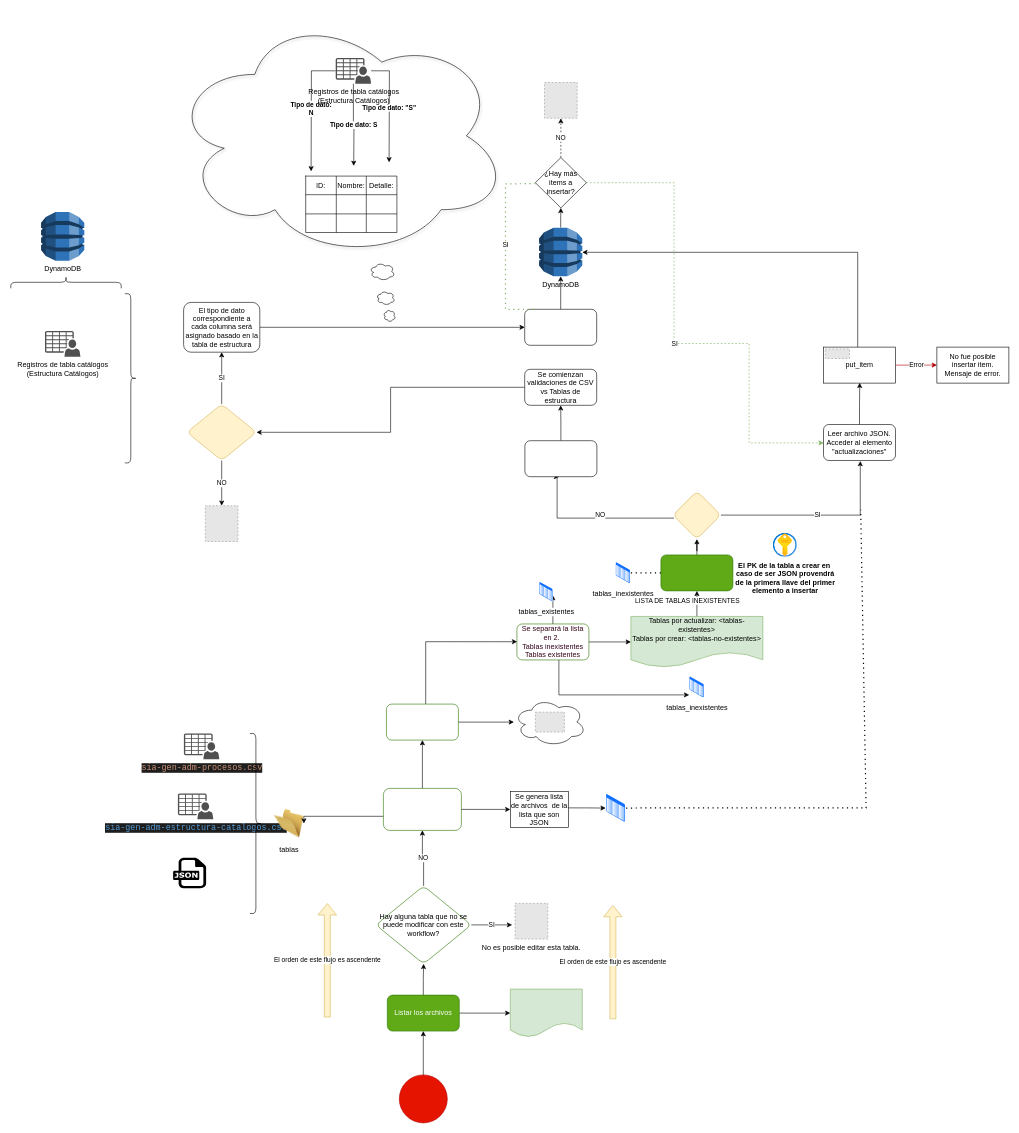
This 1019x1133 diagram has some shape labels left out. Grey dashed boxes stand in for pictures. The centre of each missing label's shape, as x and y in pixels:
"Cambiar .csv por ambiente -${{env.samEnv}} a cada elemento de la lista." goes at [422,809].
"Imprimir lista de archivos" goes at [546,1012].
"Inicio" goes at [423,1098].
"lista JSONS" goes at [615,807].
"Se entrará al contenido del csv de cada elemento de la lista" goes at [560,458].
"Se intentará hacer un CREATE de la tabla" goes at [696,572].
"Se intentará hacer un INSERT/UPDATE en la tabla" goes at [560,327].
"sia-afore-cat-contrapartes.json" goes at [189,872].
"Validar si existen dichas tablas de la lista en AWS" goes at [422,722].
"¿Es la misma cantidad de columnas?" goes at [221,432].
"¿La tabla está en la lista de tablas JSON?" goes at [696,514].
